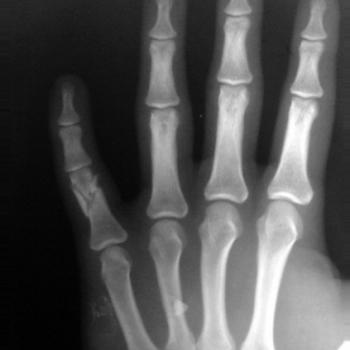Fracture: (70, 174, 108, 214)
